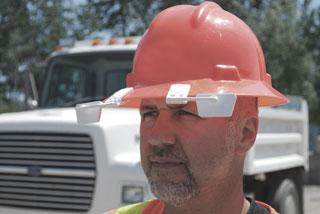helmet: (118, 2, 292, 107)
